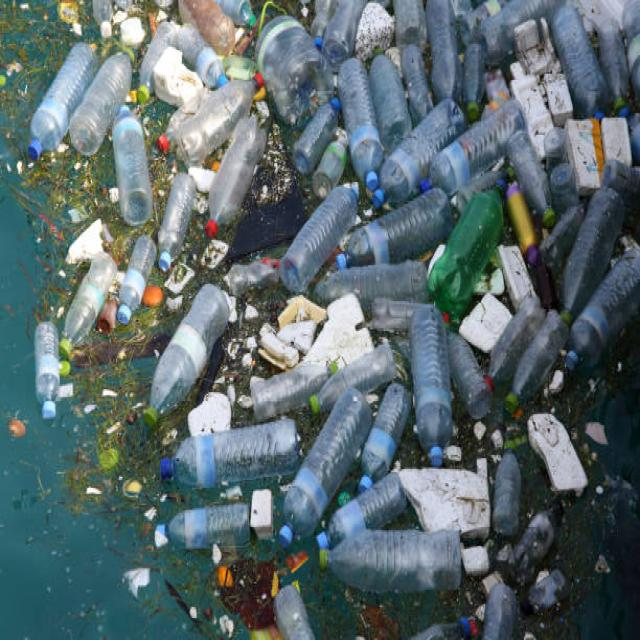plastic: (284, 25, 617, 590), (51, 50, 271, 444)
